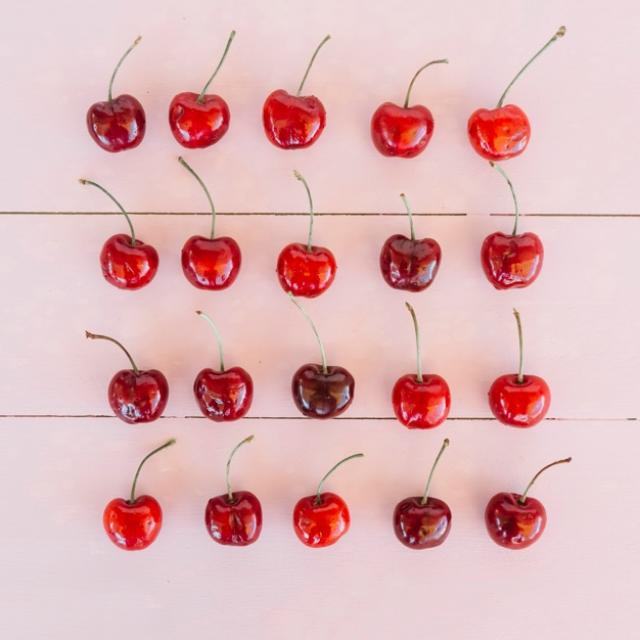cherry: (76, 173, 162, 294), (484, 445, 576, 551), (173, 156, 243, 292), (77, 326, 172, 425), (470, 22, 533, 162), (286, 296, 357, 419), (480, 162, 544, 294), (485, 305, 552, 428), (279, 168, 339, 302), (102, 432, 169, 550), (263, 33, 331, 149), (186, 309, 253, 422), (167, 33, 233, 147), (395, 431, 457, 551), (88, 33, 149, 154), (204, 433, 268, 548), (394, 300, 449, 430), (379, 186, 444, 293), (370, 58, 433, 158), (295, 443, 353, 549)
